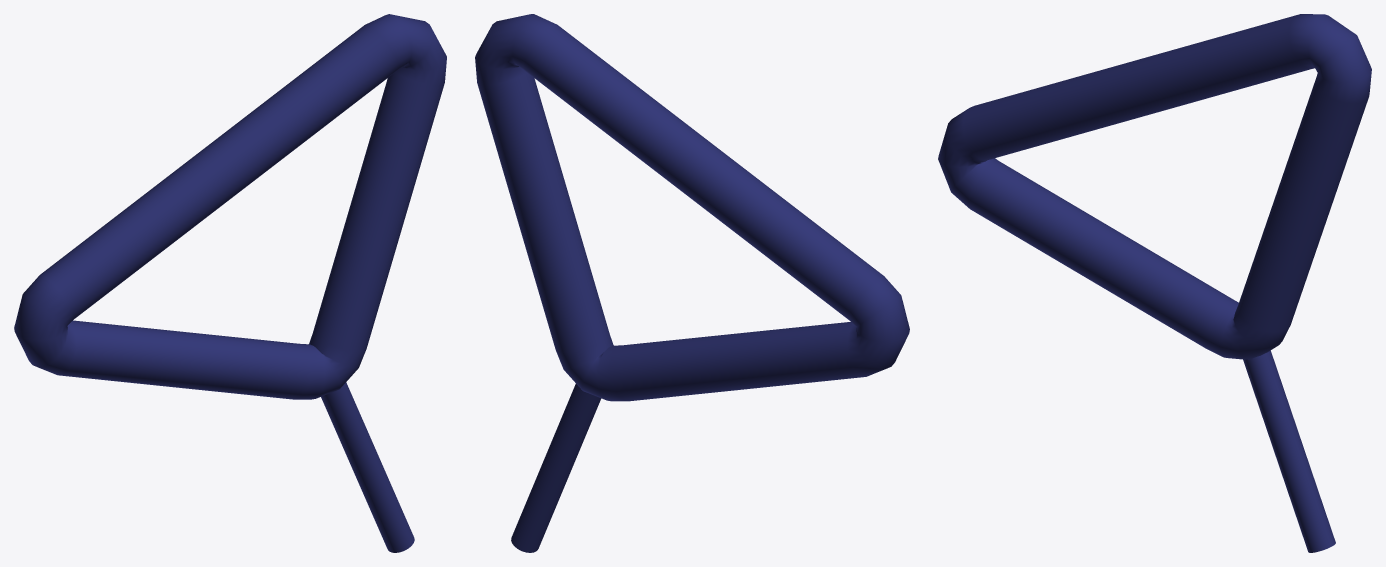
File: triangle_line.fbx
The picture shows the model from 3 angles, left to right: view 1: azimuth 30°, elevation 25°; view 2: azimuth 150°, elevation 25°; view 3: azimuth 330°, elevation 25°; orthographic projection.
Visible parts, largest first — view 1: pCylinder9; view 2: pCylinder9; view 3: pCylinder9.
Part boxes in pixels (x1,y1,x2,y2): pCylinder9: (14, 14, 446, 552); pCylinder9: (475, 14, 909, 552); pCylinder9: (938, 14, 1371, 552).
Size of the model in its own units: 96.42 by 115 by 11.02.
